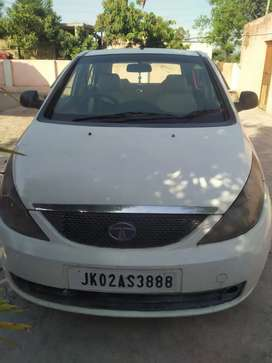JK02AS3888: (67, 269, 180, 293)
